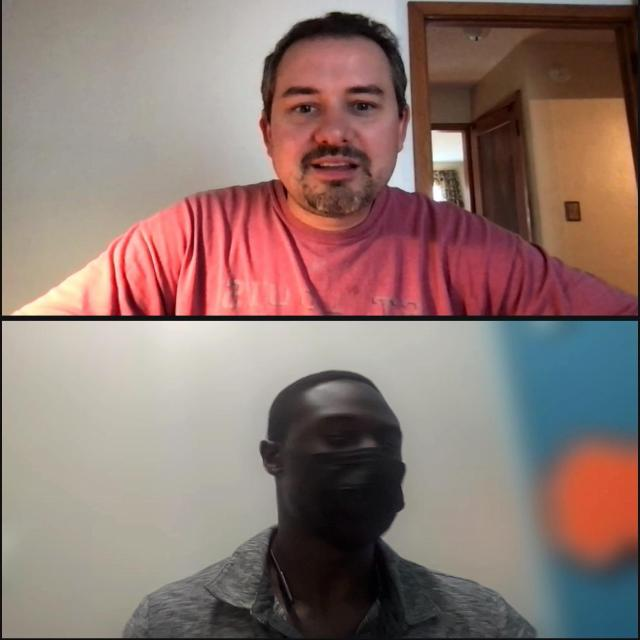face: (255, 22, 409, 219), (260, 377, 407, 549)
